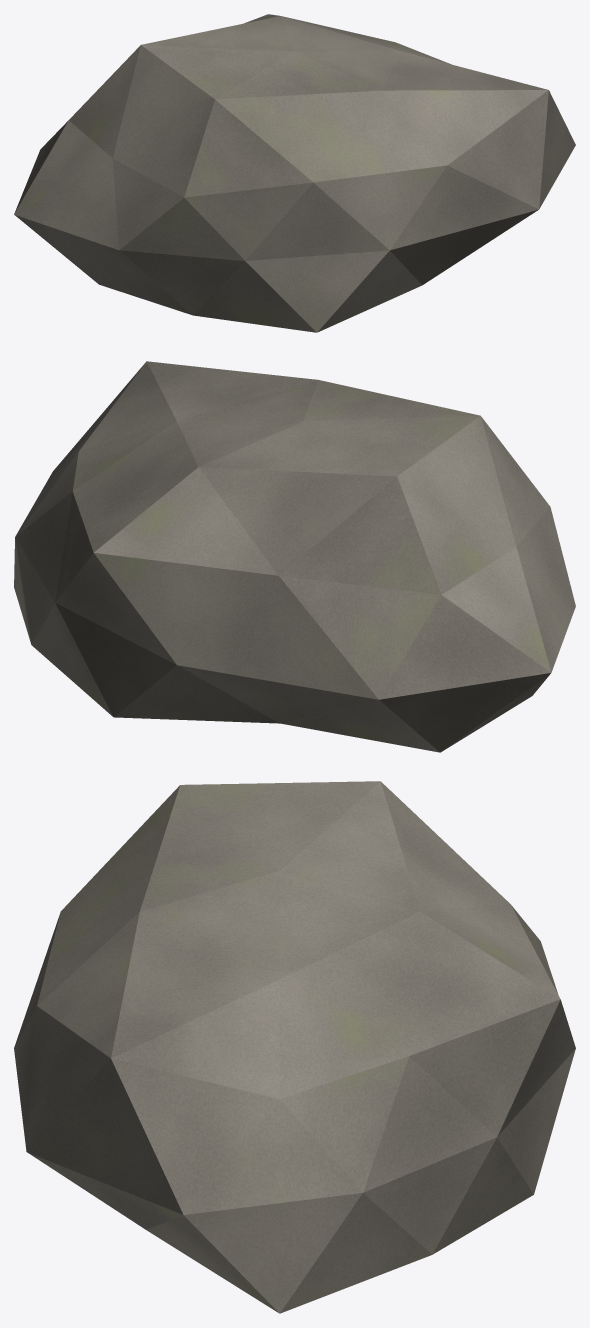
Rendered from roccia_1.glb.
3 views of the same model, one above another, from view 1: azimuth 30°, elevation 25°; view 2: azimuth 150°, elevation 25°; view 3: azimuth 270°, elevation 25° (orthographic). The views are drawn at different scales.
Visible parts, largest first — view 1: roccia_1; view 2: roccia_1; view 3: roccia_1.
Part boxes in pixels (left/top/right/bottom): roccia_1: left=14, top=14, right=575, bottom=332; roccia_1: left=14, top=361, right=575, bottom=752; roccia_1: left=14, top=781, right=575, bottom=1313.
Bounding box in the file's own units: 1.6 × 0.65 × 1.15.
1 material, 1 textured.
